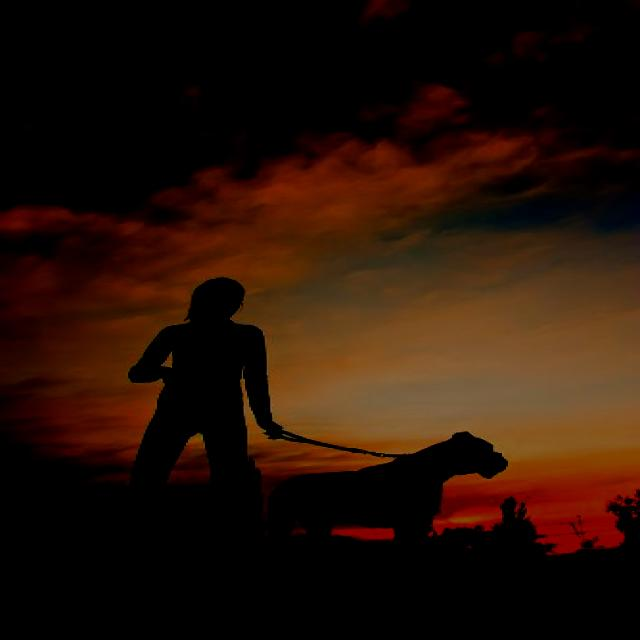Dog: (286, 402, 528, 578)
